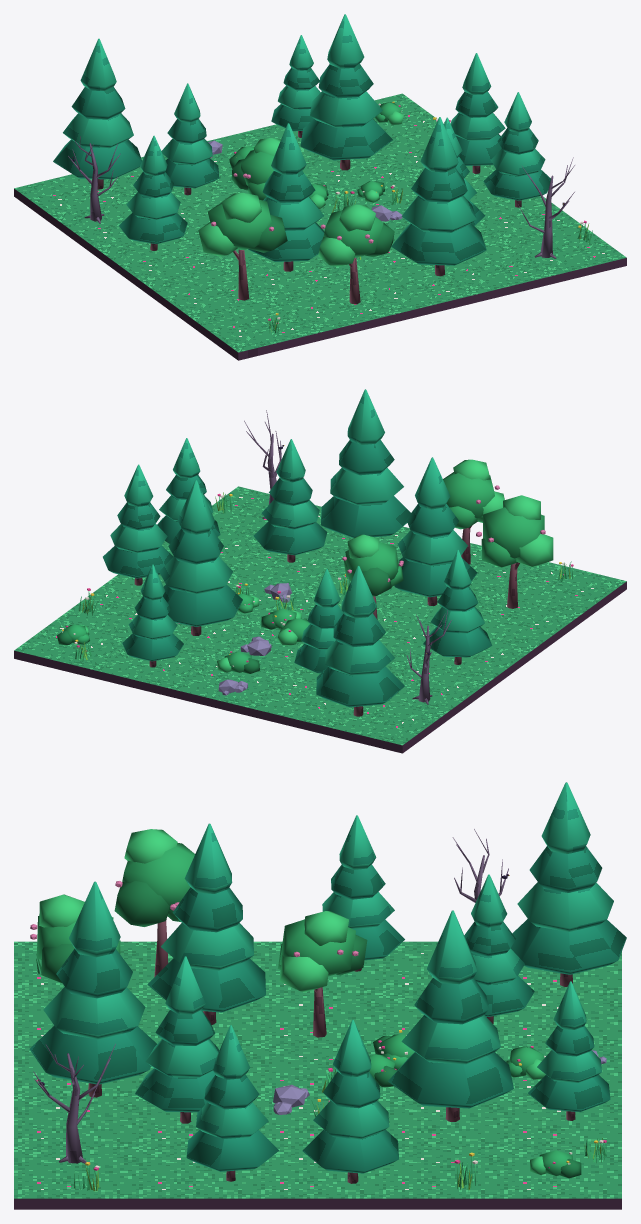
The model's file is Block Forest.fbx.
3 renders of one model, top to bottom at view 1: azimuth 30°, elevation 25°; view 2: azimuth 150°, elevation 25°; view 3: azimuth 270°, elevation 25°, orthographic. The views are drawn at different scales.
Parts seen in each view (by area): view 1: Block Forest mesh; view 2: Block Forest mesh; view 3: Block Forest mesh.
Boxes of the visible parts, left/top/right/bottom form: Block Forest mesh: left=14, top=14, right=626, bottom=360; Block Forest mesh: left=14, top=389, right=626, bottom=753; Block Forest mesh: left=14, top=782, right=626, bottom=1209.
Size of the model in its own units: 20.31 by 8.11 by 20.17.
Materials: 23 (23 with a texture image).
